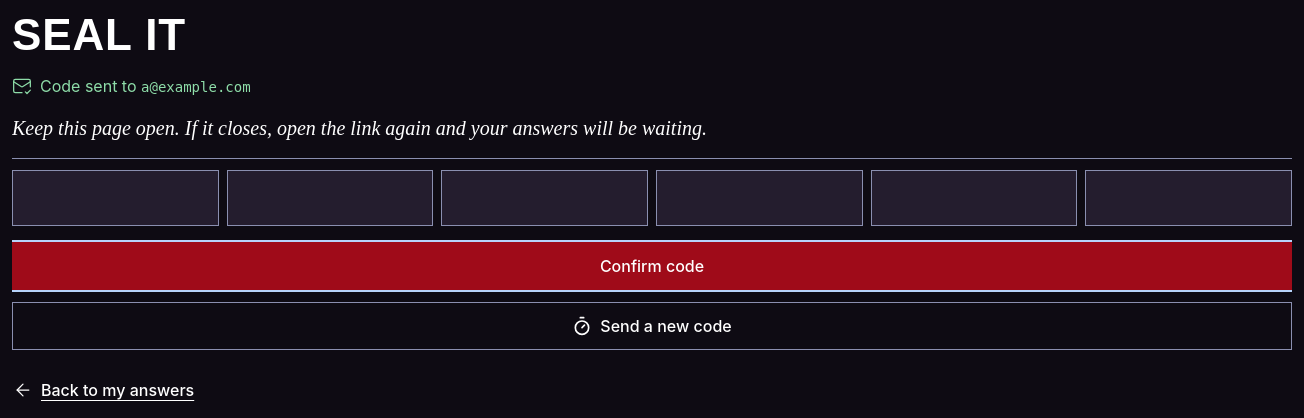
Test: CodeView timing (computed from timestamps) › a successful resend restarts the cooldown and says a new code was sent
Click the button "Send a new code". click: (652, 326)
box: [12,302,1292,350]
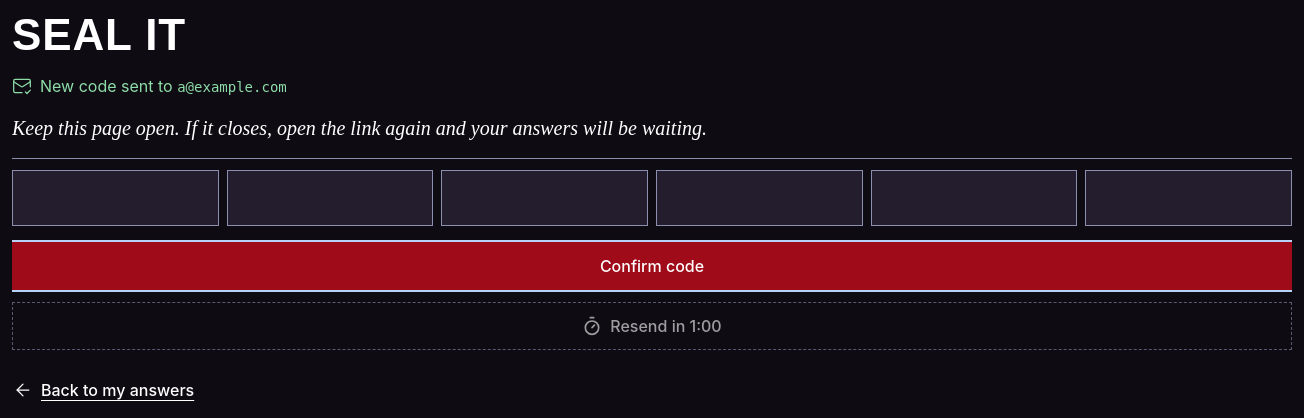
Expected: the text "New code sent to a@example.com" is shown, [40,74,287,98]
Expected: the button "Resend in 1:00" is disabled, [12,302,1292,350]
